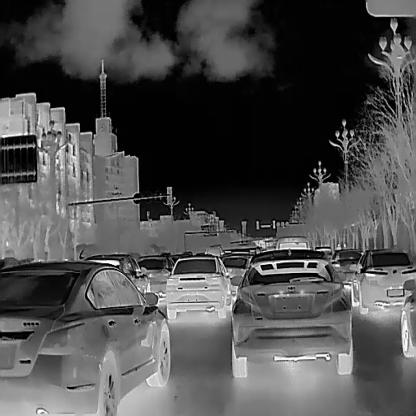car: (0, 257, 170, 415), (230, 244, 354, 375), (165, 254, 228, 320), (350, 249, 416, 312), (84, 251, 152, 298), (135, 253, 173, 299), (220, 252, 252, 298), (332, 246, 364, 287)
